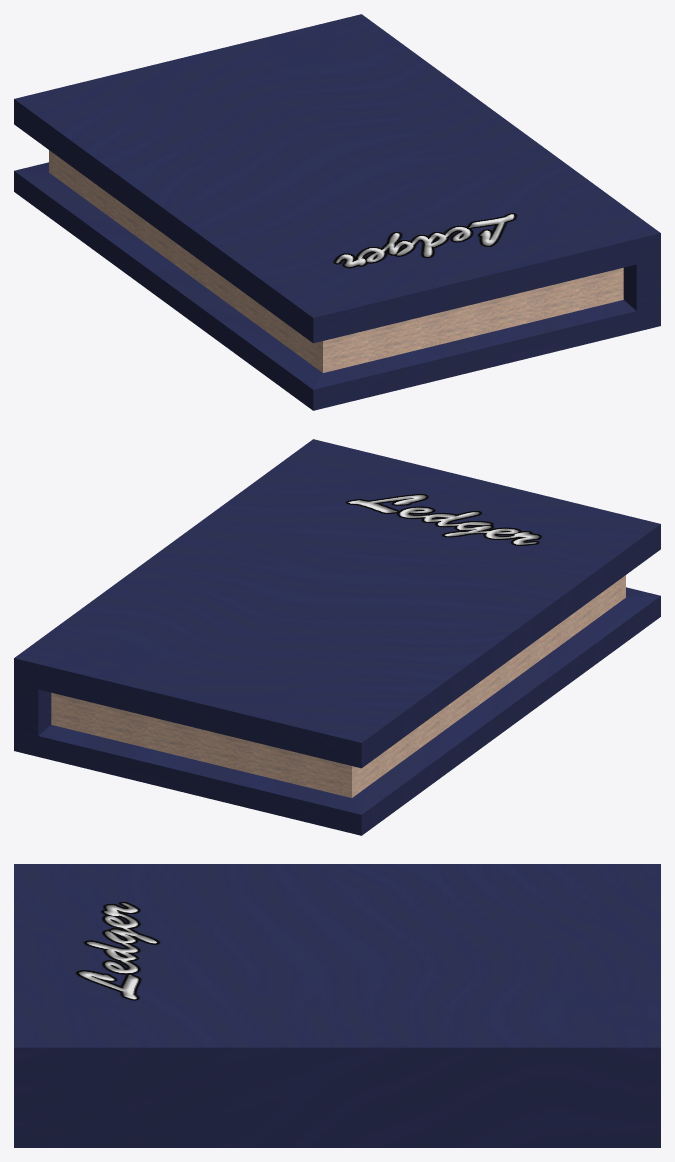
File: Ledger Model.fbx
The picture shows the model from 3 angles, top to bottom: view 1: azimuth 30°, elevation 25°; view 2: azimuth 150°, elevation 25°; view 3: azimuth 270°, elevation 25°; orthographic projection. The views are drawn at different scales.
Visible parts, largest first — view 1: Ledger; view 2: Ledger; view 3: Ledger.
Part boxes in pixels (x1,y1,x2,y2): Ledger: [14, 14, 660, 410]; Ledger: [14, 439, 660, 835]; Ledger: [14, 864, 660, 1147].
Size of the model in its own units: 1.21 by 0.3083 by 1.8.
